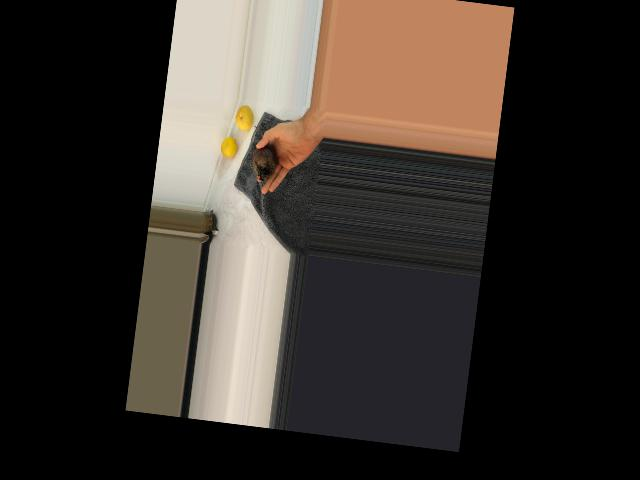beet: (247, 125, 281, 182)
